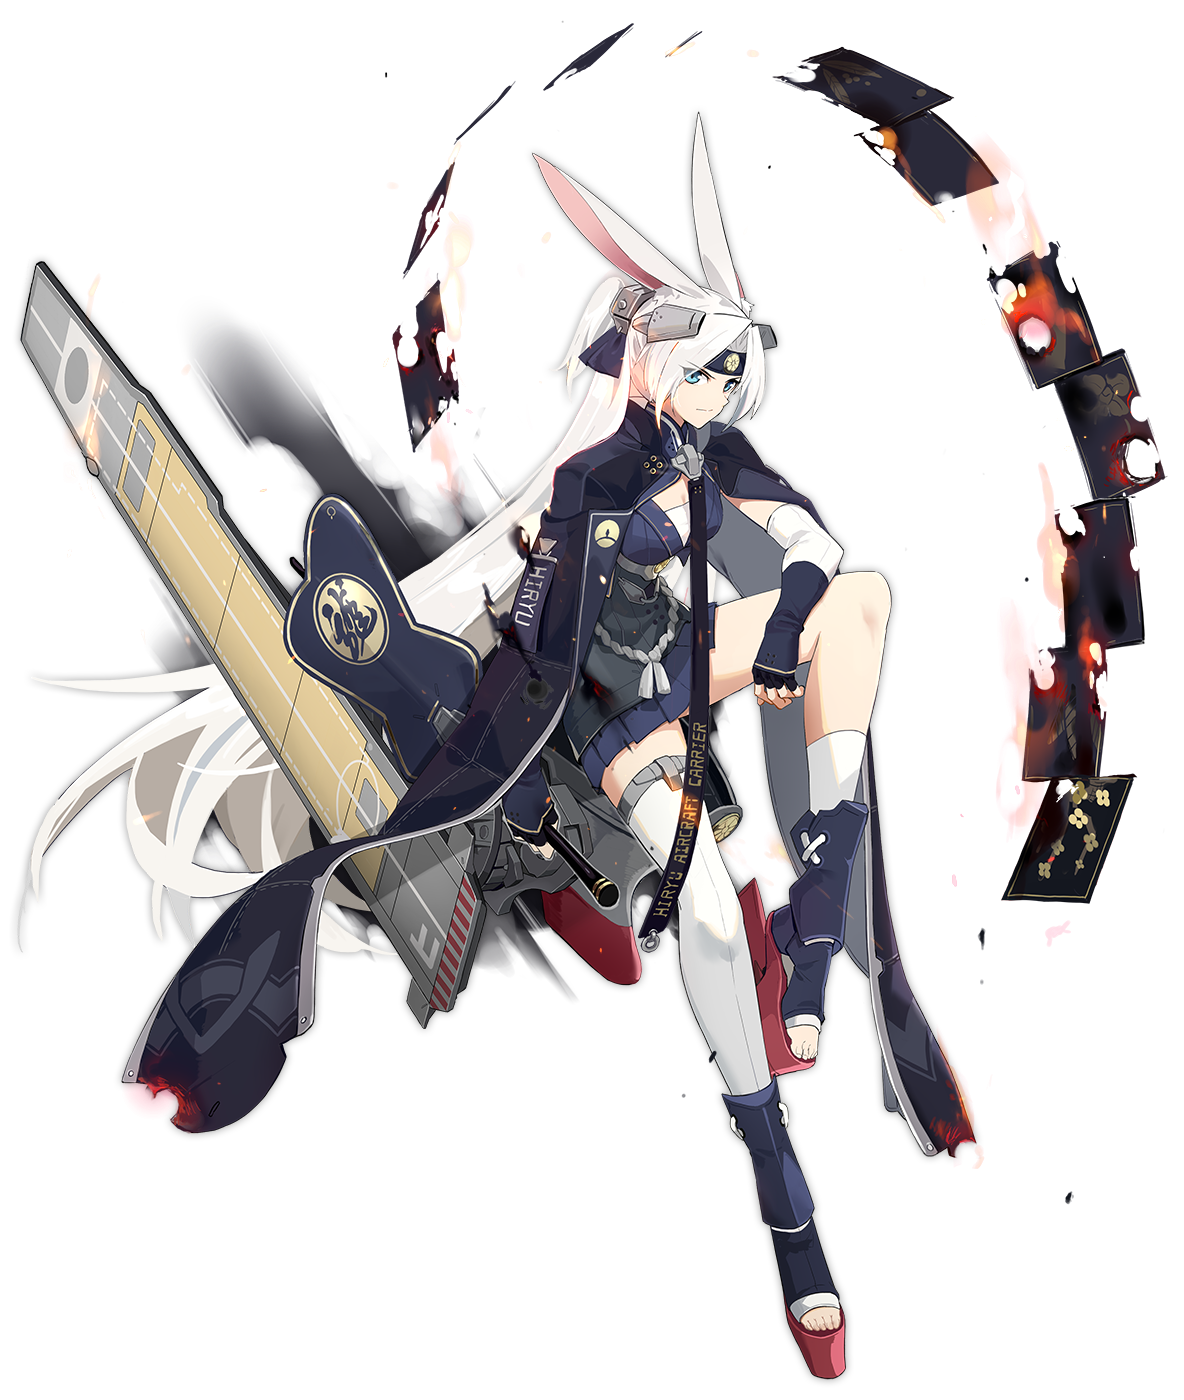person: (319, 267, 894, 1105)
